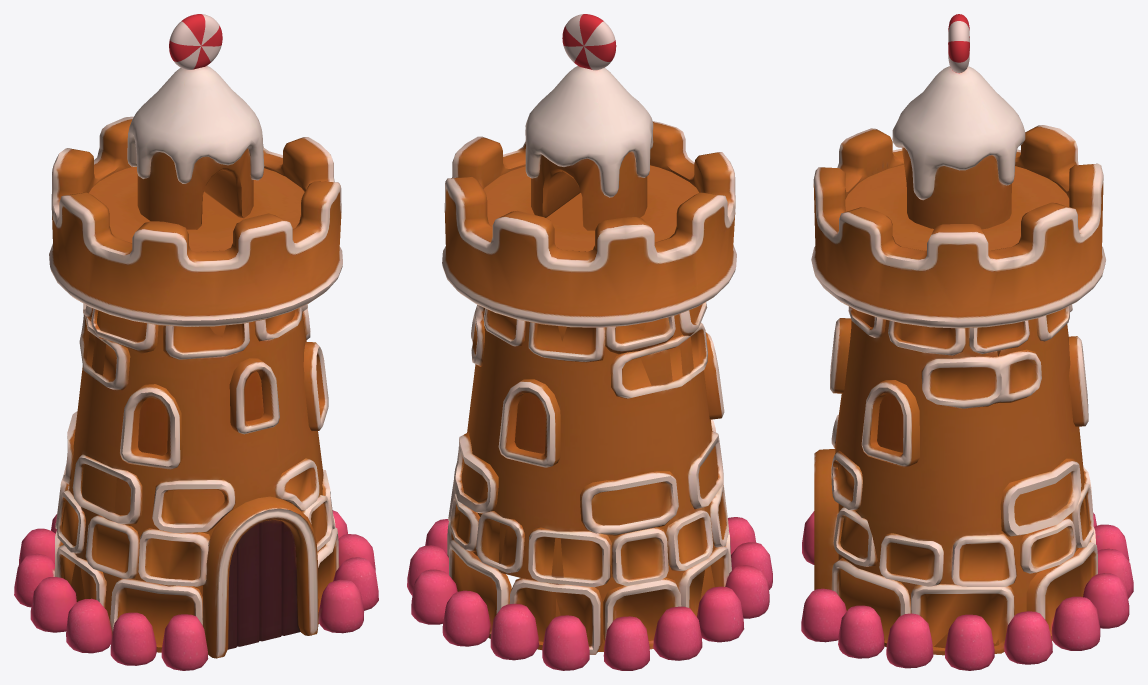
File: gingerbread_tower_v3.glb
3 renders of one model, left to right at view 1: azimuth 30°, elevation 25°; view 2: azimuth 150°, elevation 25°; view 3: azimuth 270°, elevation 25°, orthographic.
Visible parts, largest first — view 1: gingerbread_tower; view 2: gingerbread_tower; view 3: gingerbread_tower.
Part boxes in pixels (box(x1,y1,x2,y2)): gingerbread_tower: box(14, 14, 378, 670); gingerbread_tower: box(407, 14, 772, 670); gingerbread_tower: box(801, 14, 1133, 670).
Bounding box in the file's own units: 4.3 × 7.6 × 3.95.
1 material, 1 textured.
